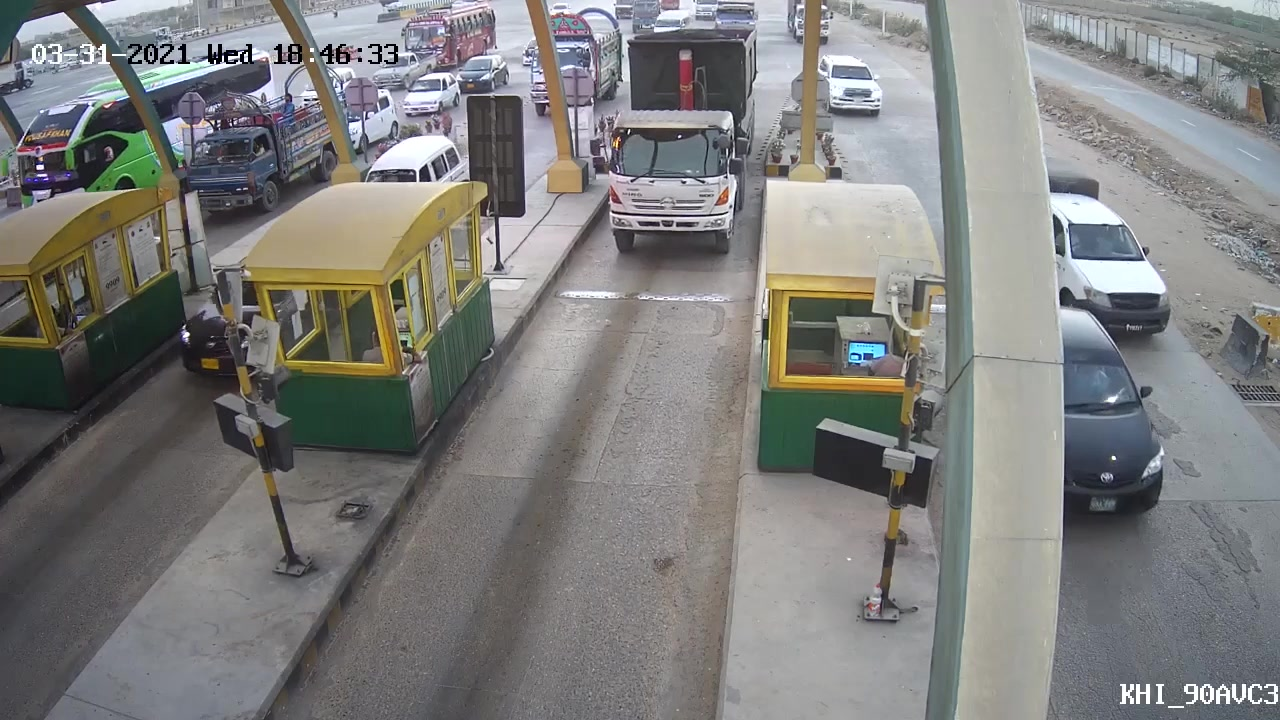F6: (583, 15, 769, 259)
